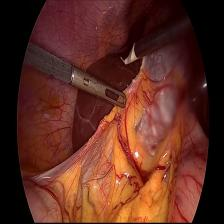Grasper: (74, 72, 128, 112)
Hook: (118, 42, 140, 70)
